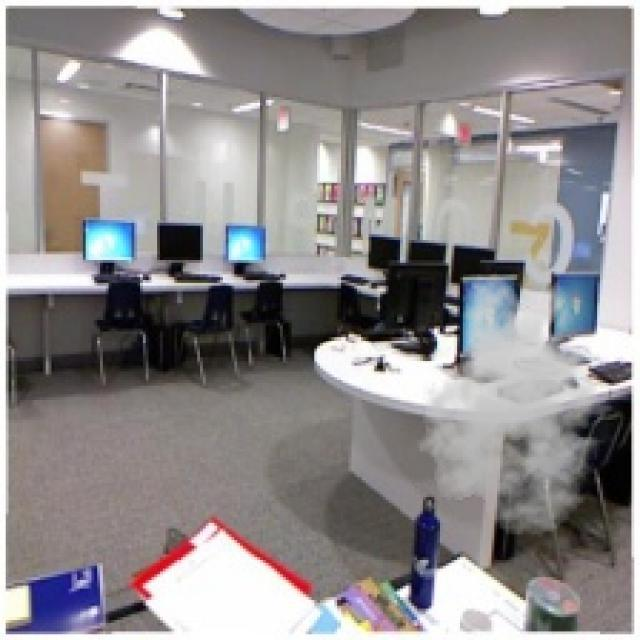Smoke: (411, 272, 623, 537)
